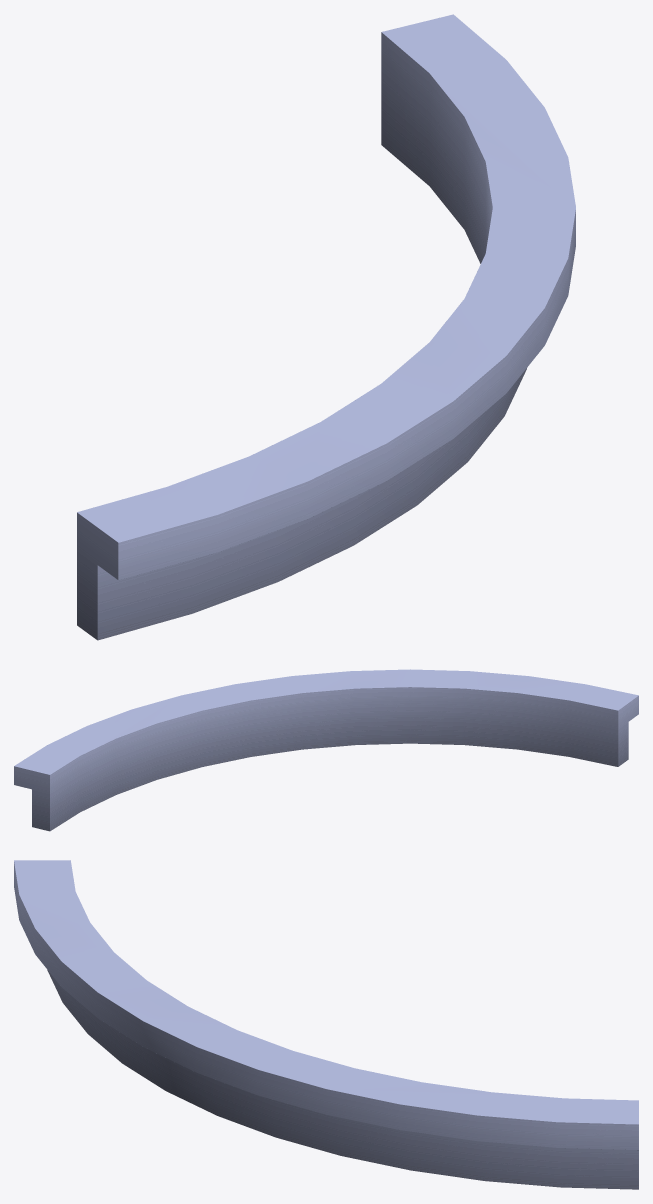
The model's file is border-corner-round.glb.
The picture shows the model from 3 angles, top to bottom: view 1: azimuth 30°, elevation 25°; view 2: azimuth 150°, elevation 25°; view 3: azimuth 270°, elevation 25°; orthographic projection. The views are drawn at different scales.
Visible parts, largest first — view 1: border-corner-round; view 2: border-corner-round; view 3: border-corner-round.
Part boxes in pixels (x1,y1,x2,y2): border-corner-round: (77, 14, 575, 640); border-corner-round: (14, 669, 638, 831); border-corner-round: (14, 860, 638, 1189).
Size of the model in its own units: 2.2 by 0.3 by 2.2.
1 material, 1 textured.
